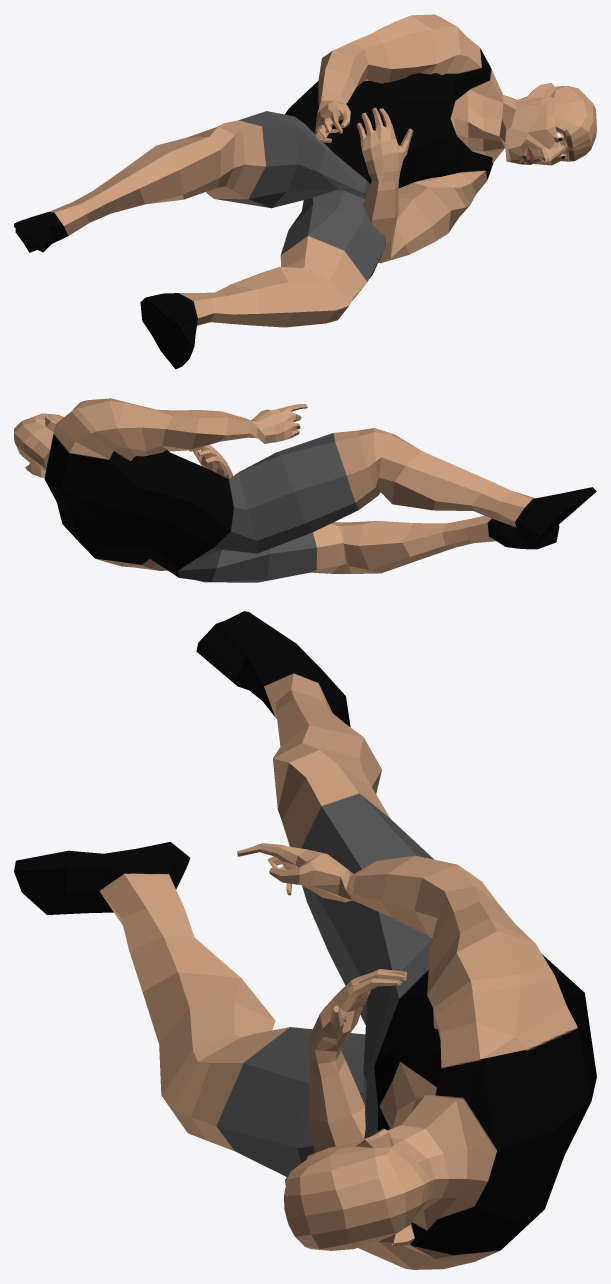
Rendered from PlayerDead(51).obj.
3 renders of one model, top to bottom at view 1: azimuth 30°, elevation 25°; view 2: azimuth 150°, elevation 25°; view 3: azimuth 270°, elevation 25°, orthographic. The views are drawn at different scales.
Visible parts, largest first — view 1: Plane002; view 2: Plane002; view 3: Plane002.
Part boxes in pixels (box(x1,y1,x2,y2)): Plane002: box(14, 14, 596, 369); Plane002: box(14, 398, 596, 582); Plane002: box(14, 611, 596, 1269).
Bounding box in the file's own units: 1762 × 563 × 853.
